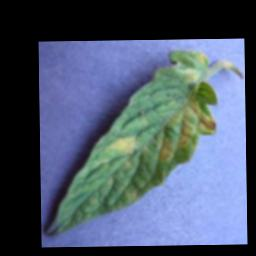Leaf_Mold: (155, 96, 218, 165), (105, 134, 139, 156), (183, 67, 202, 84)
